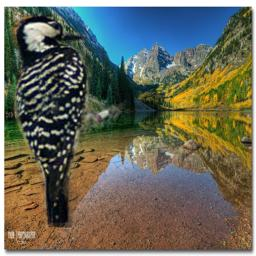Woodpecker: (9, 9, 124, 229)
